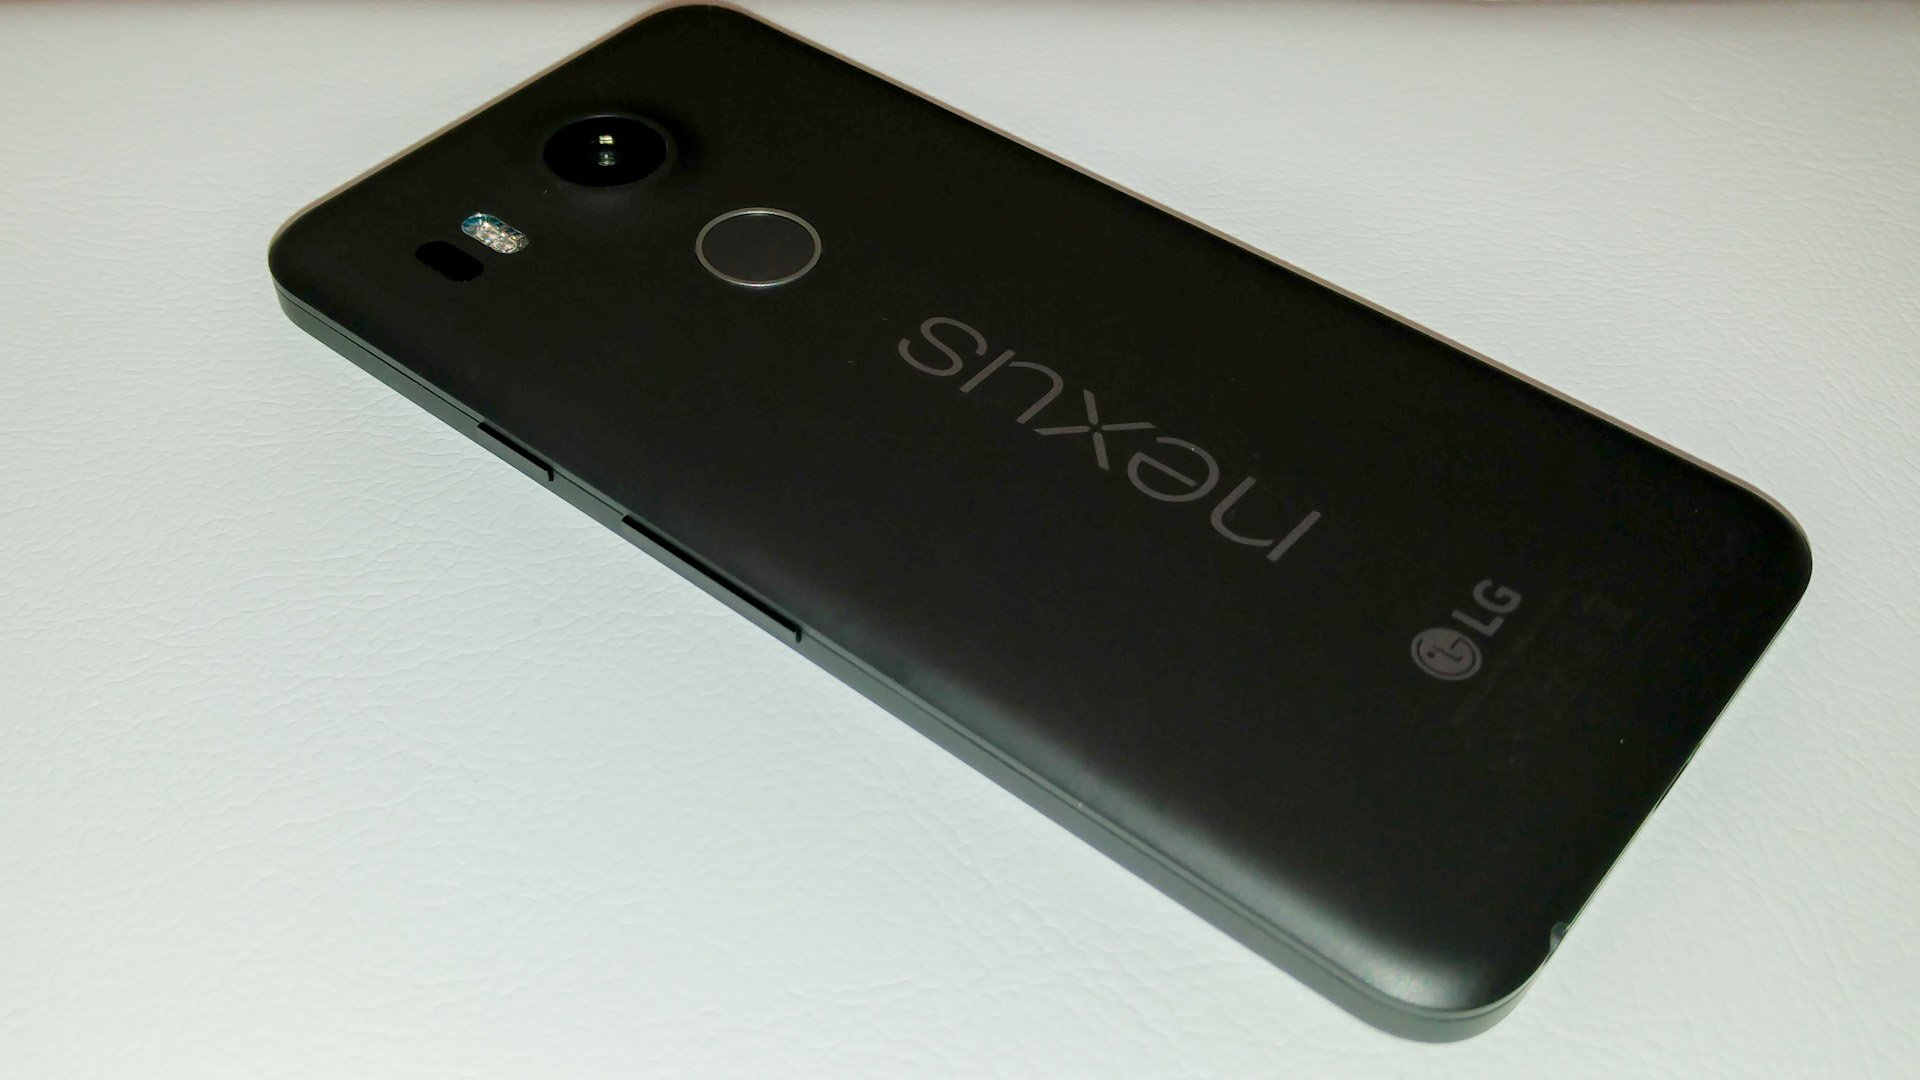smartphone: (266, 1, 1813, 1042)
